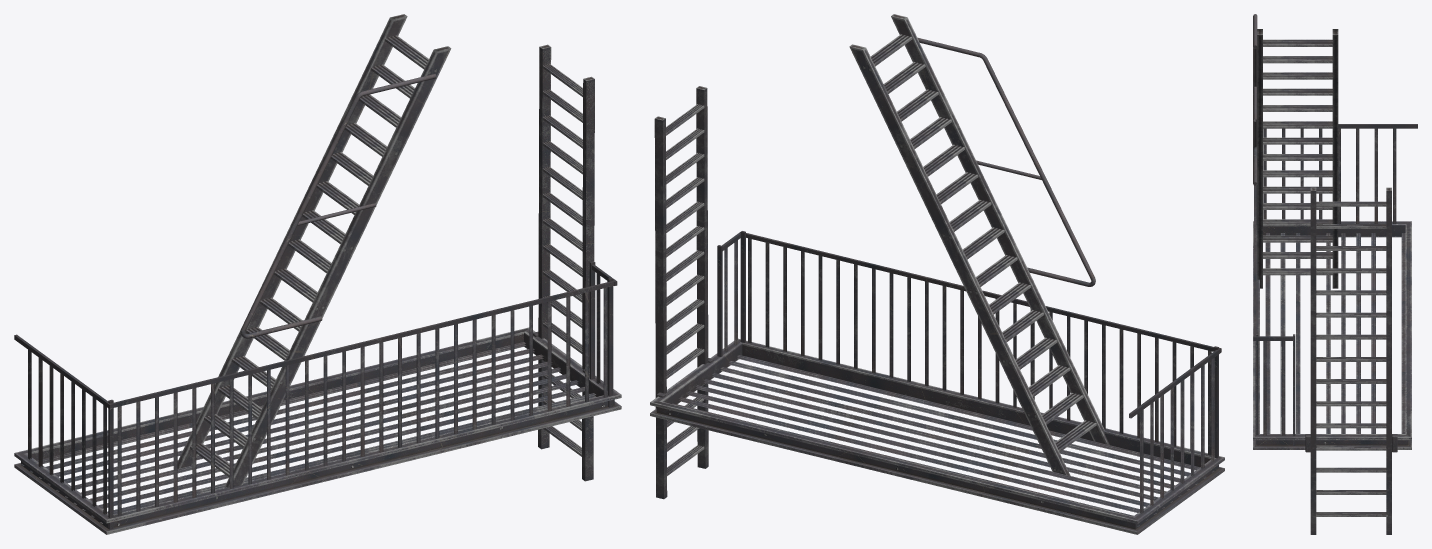
The model's file is House_05_Fire_Escape_02.fbx.
The picture shows the model from 3 angles, left to right: view 1: azimuth 30°, elevation 25°; view 2: azimuth 150°, elevation 25°; view 3: azimuth 270°, elevation 25°; orthographic projection. The views are drawn at different scales.
Visible parts, largest first — view 1: House_05_Fire_Escape_02_LOD0; view 2: House_05_Fire_Escape_02_LOD0; view 3: House_05_Fire_Escape_02_LOD0.
Part boxes in pixels (left/top/right/bottom): House_05_Fire_Escape_02_LOD0: left=14, top=14, right=621, bottom=534; House_05_Fire_Escape_02_LOD0: left=650, top=14, right=1224, bottom=534; House_05_Fire_Escape_02_LOD0: left=1253, top=14, right=1417, bottom=534.
Size of what is drawn, in the model's own units: 413 by 375 by 131.
